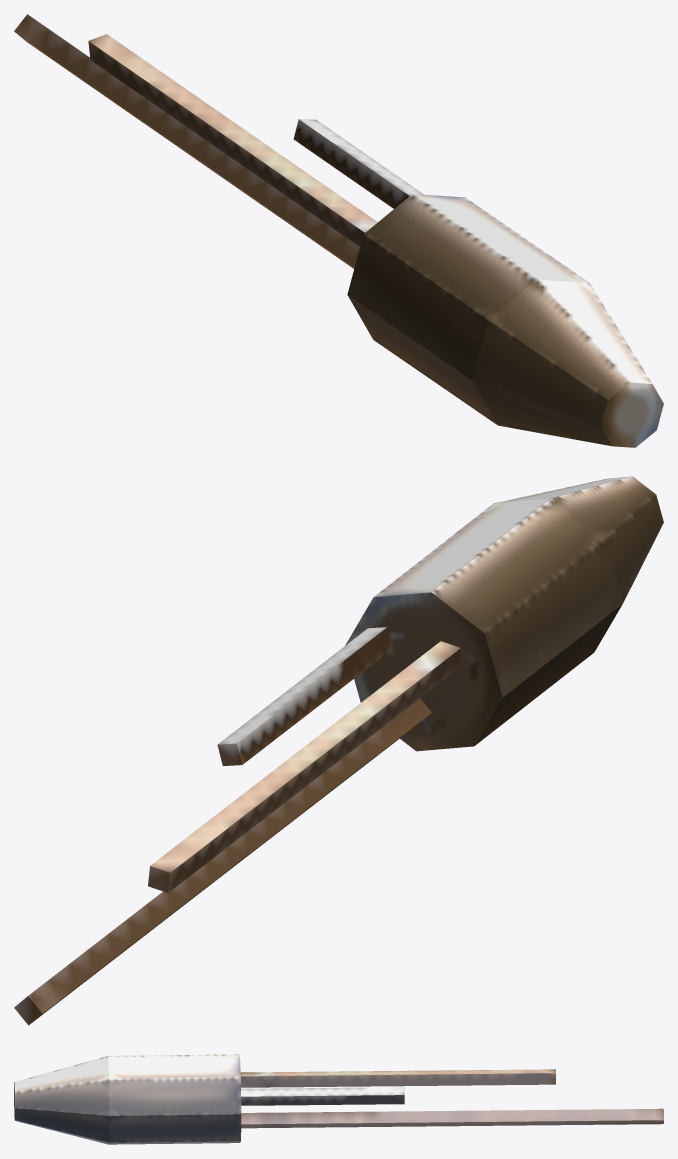
3 renders of one model, top to bottom at view 1: azimuth 30°, elevation 25°; view 2: azimuth 150°, elevation 25°; view 3: azimuth 270°, elevation 25°, orthographic. The views are drawn at different scales.
Parts seen in each view (by area): view 1: Bala_Cylinder.003, Estela_3_Cube.008, Estela_1_Cube.006, Estela_2_Cube.007; view 2: Bala_Cylinder.003, Estela_3_Cube.008, Estela_1_Cube.006, Estela_2_Cube.007; view 3: Bala_Cylinder.003, Estela_1_Cube.006, Estela_3_Cube.008, Estela_2_Cube.007.
Boxes of the visible parts, x1,y1,x2,y2 form: Bala_Cylinder.003: (347, 194, 663, 447); Estela_3_Cube.008: (88, 34, 377, 246); Estela_1_Cube.006: (14, 14, 359, 268); Estela_2_Cube.007: (293, 119, 423, 208); Bala_Cylinder.003: (345, 476, 663, 751); Estela_3_Cube.008: (148, 641, 460, 892); Estela_1_Cube.006: (14, 698, 431, 1025); Estela_2_Cube.007: (217, 627, 392, 765); Bala_Cylinder.003: (14, 1054, 241, 1144); Estela_1_Cube.006: (241, 1108, 663, 1128); Estela_3_Cube.008: (240, 1069, 555, 1087); Estela_2_Cube.007: (241, 1087, 404, 1105).
Size of what is drawn, in the model's own units: 0.2901 by 0.2792 by 1.94.
